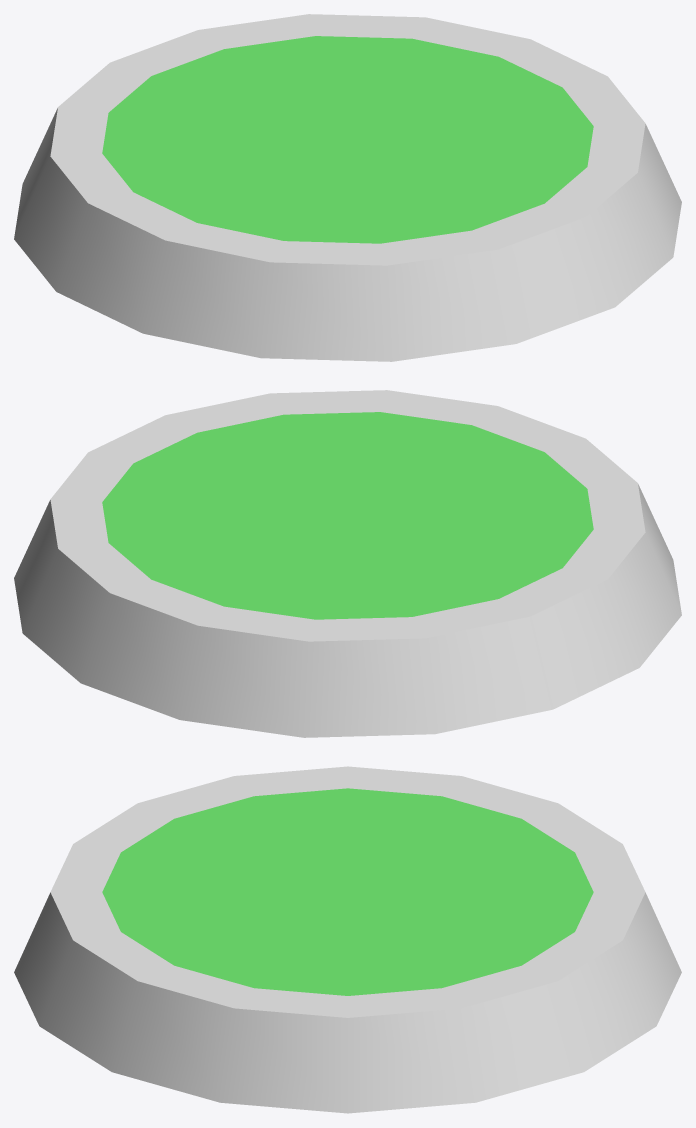
File: Point.fbx
The picture shows the model from 3 angles, top to bottom: view 1: azimuth 30°, elevation 25°; view 2: azimuth 150°, elevation 25°; view 3: azimuth 270°, elevation 25°; orthographic projection.
Parts seen in each view (by area): view 1: Circle; view 2: Circle; view 3: Circle.
Boxes of the visible parts, left/top/right/bottom form: Circle: left=14, top=14, right=681, bottom=361; Circle: left=14, top=390, right=681, bottom=737; Circle: left=14, top=766, right=681, bottom=1113.
Size of the model in its own units: 200 by 26.48 by 200.
